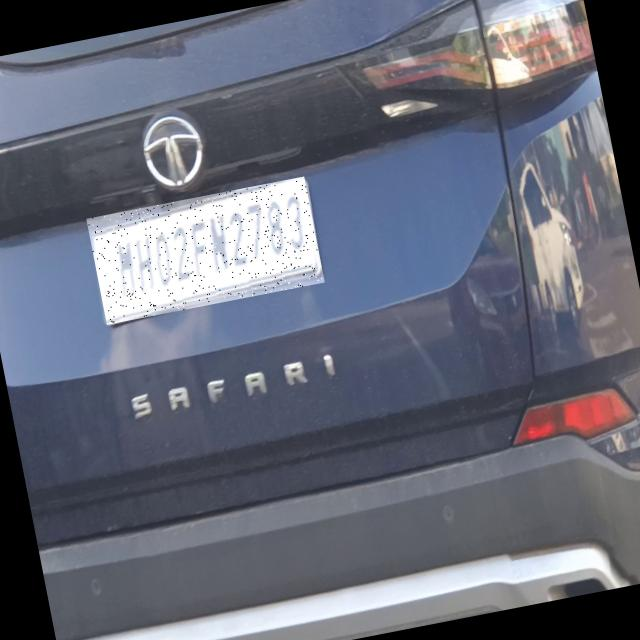Plate: (88, 178, 327, 326)
